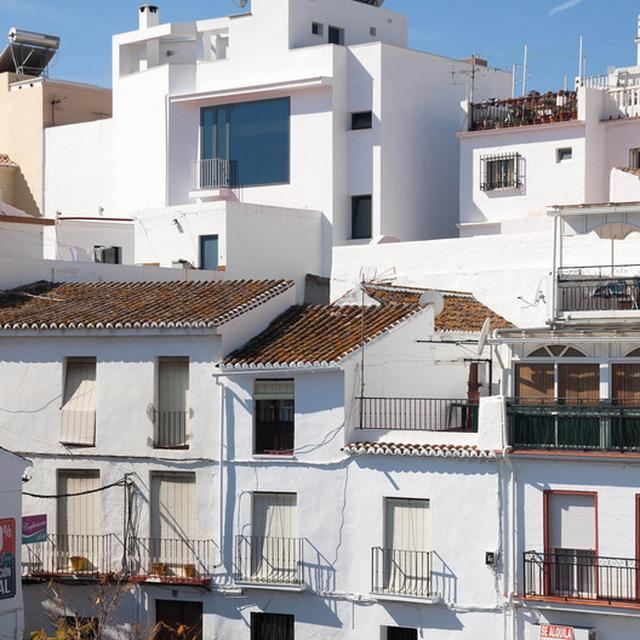building: (0, 0, 516, 269), (3, 264, 299, 623), (425, 285, 640, 640), (222, 273, 427, 609)
